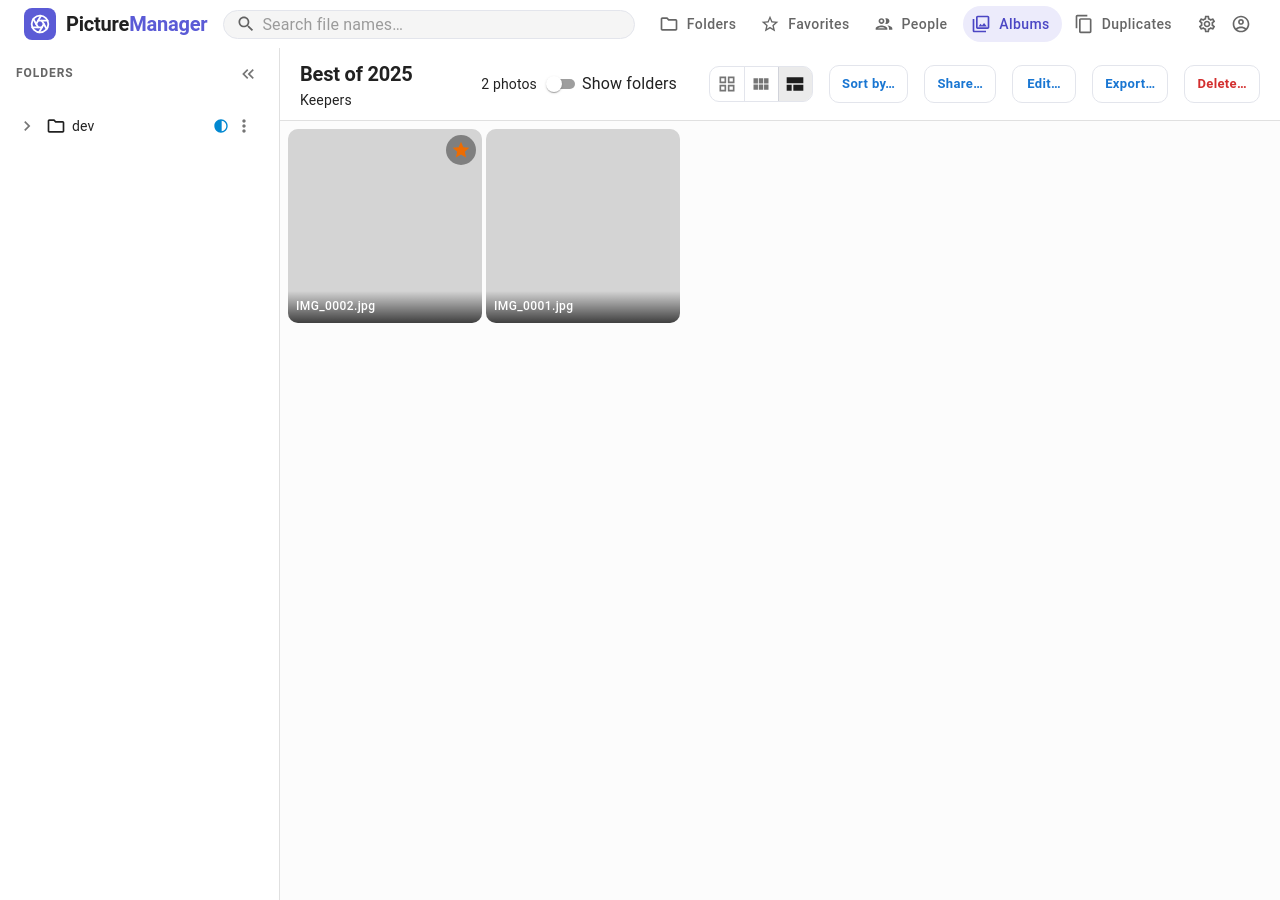
Test case: ShareDialog › does not offer people who already have access, or disabled accounts
What coordinates should you click on to do the following:
click the button "Share…"
I would click on:
 (960, 84)
Its box is 924,65 -> 996,103.
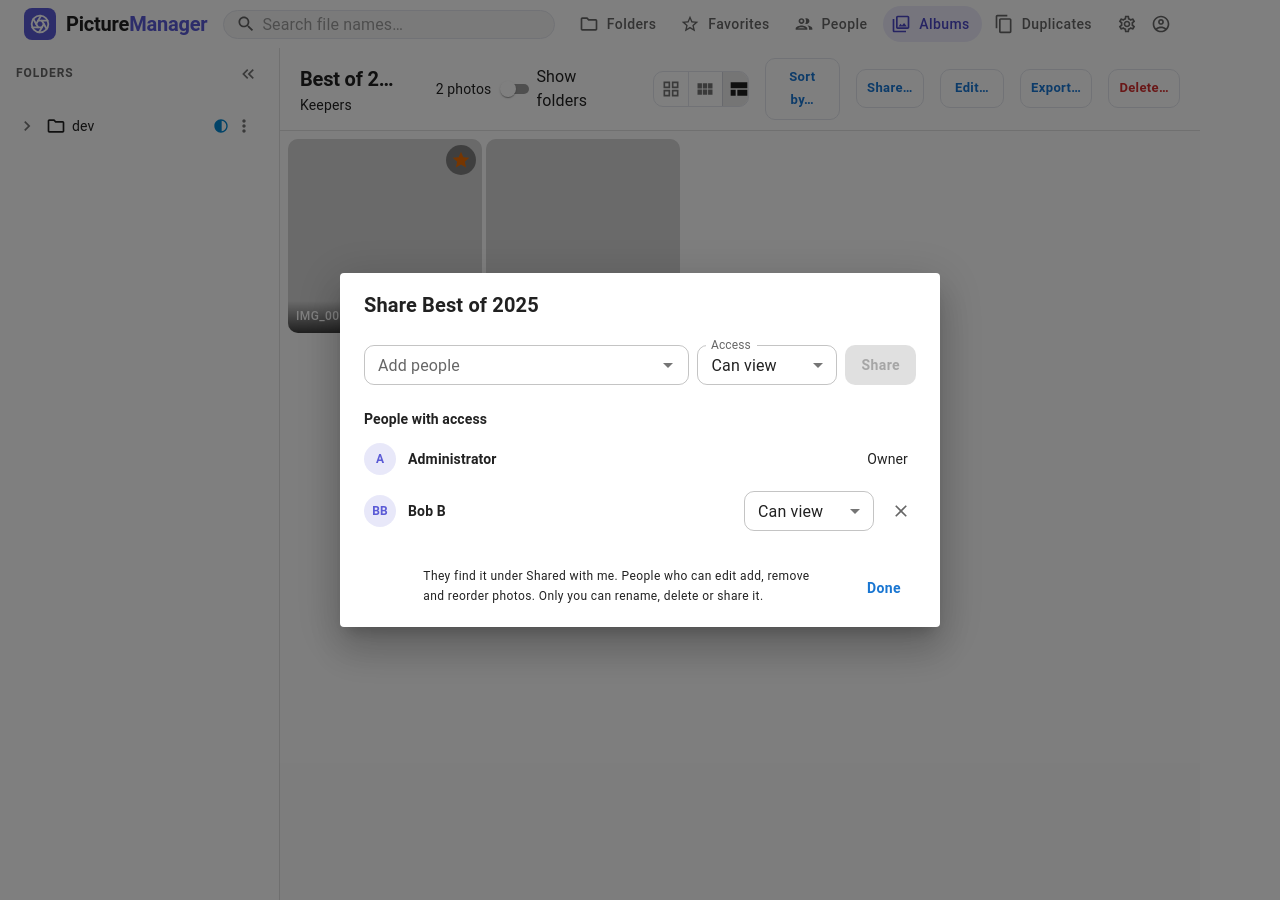
Check: the dropdown named "Access for Bob B" is shown, box 758,502 -> 823,521
What coordinates should you click on to do the following:
click the dropdown labelled "Add people"
I would click on:
 (510, 365)
Its box is 370,351 -> 650,379.
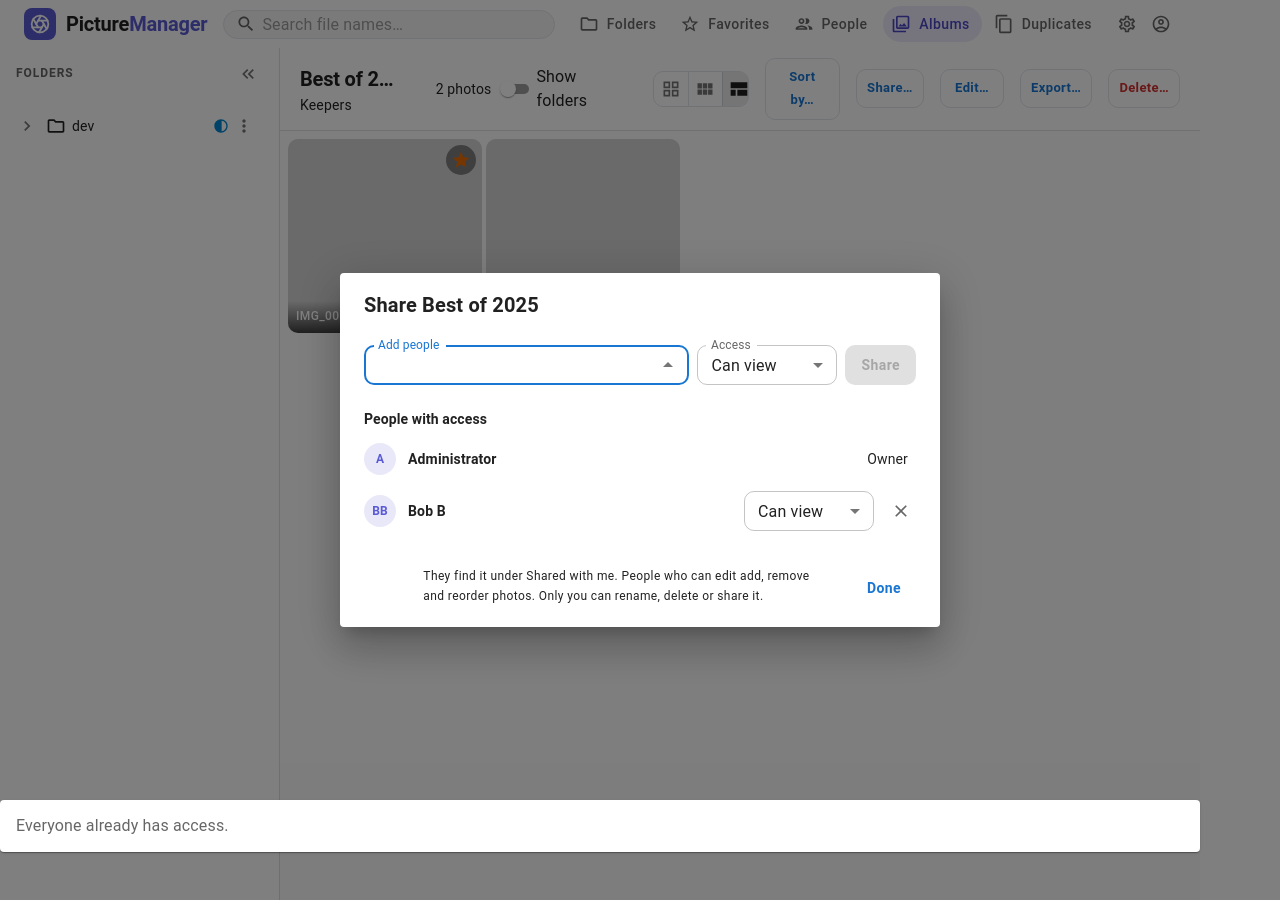
Check: the text "Everyone already has access." is shown, box 16,816 -> 229,835
